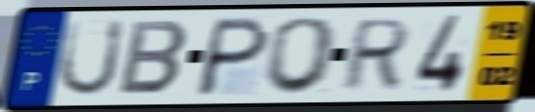4: (411, 12, 467, 95)
B: (115, 18, 192, 97)
O: (260, 15, 342, 97)
P: (191, 15, 274, 99)
R: (337, 16, 415, 93)
U: (54, 17, 128, 99)
